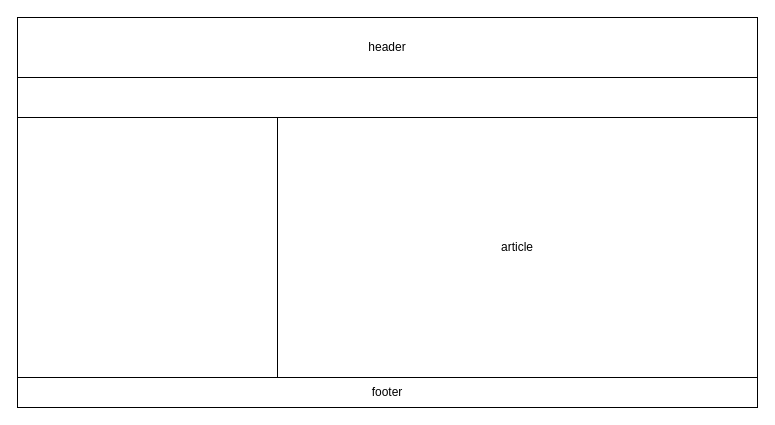
This 775x425 diagram has some shape labels left out. Each missing label, with the box of its shape:
aside: (16, 116, 278, 378)
nav: (16, 76, 758, 118)
